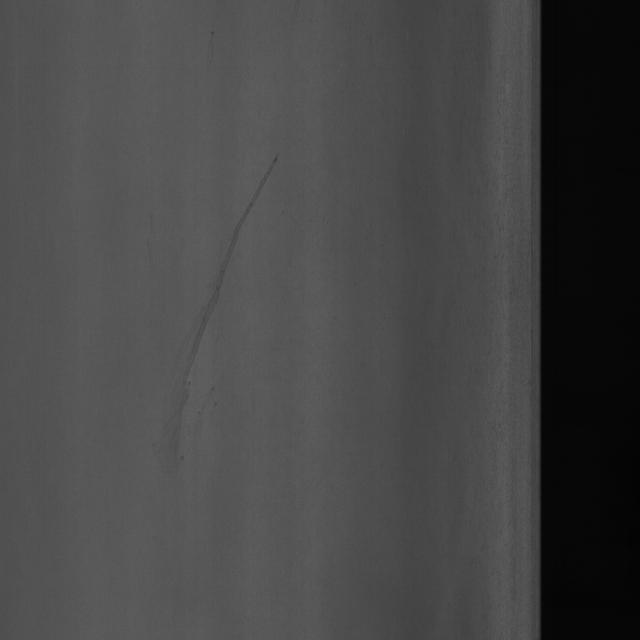water_spot: (157, 136, 295, 504)
